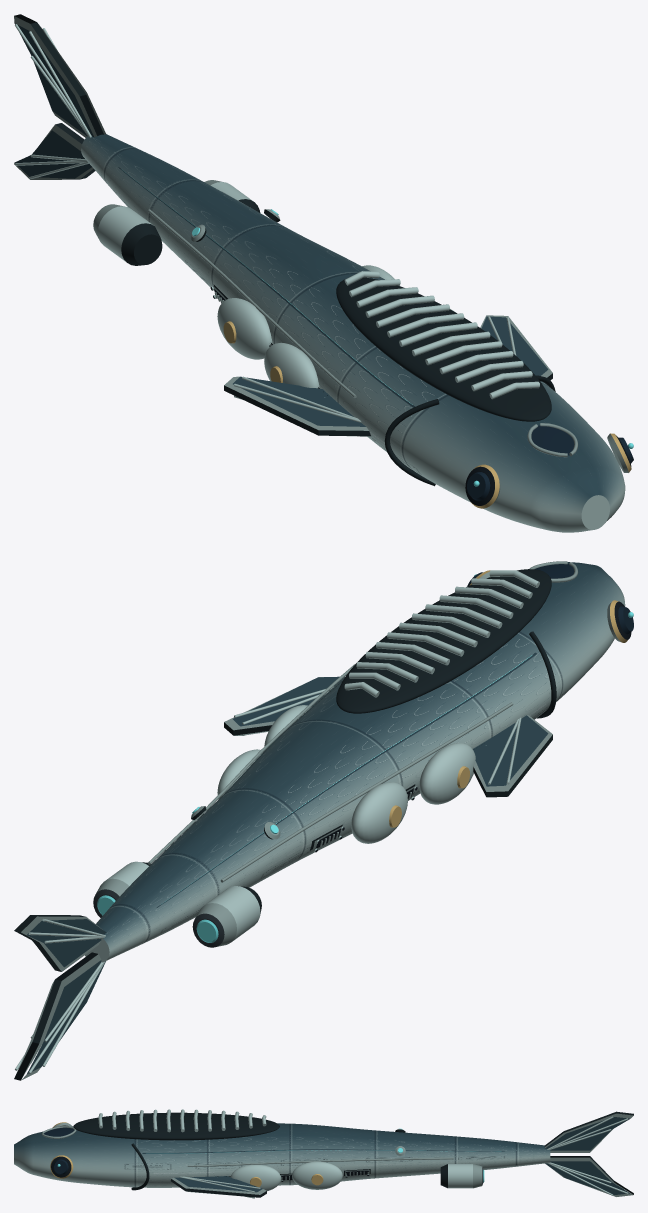
The model's file is ship.glb.
The picture shows the model from 3 angles, top to bottom: view 1: azimuth 30°, elevation 25°; view 2: azimuth 150°, elevation 25°; view 3: azimuth 270°, elevation 25°; orthographic projection. The views are drawn at different scales.
Parts seen in each view (by area): view 1: remora_hull; view 2: remora_hull; view 3: remora_hull.
Boxes of the visible parts, left/top/right/bottom form: remora_hull: left=14, top=14, right=633, bottom=532; remora_hull: left=14, top=561, right=633, bottom=1080; remora_hull: left=14, top=1109, right=633, bottom=1198.
Bounding box in the file's own units: 18.16 × 9.53 × 64.
1 material, 1 textured.
